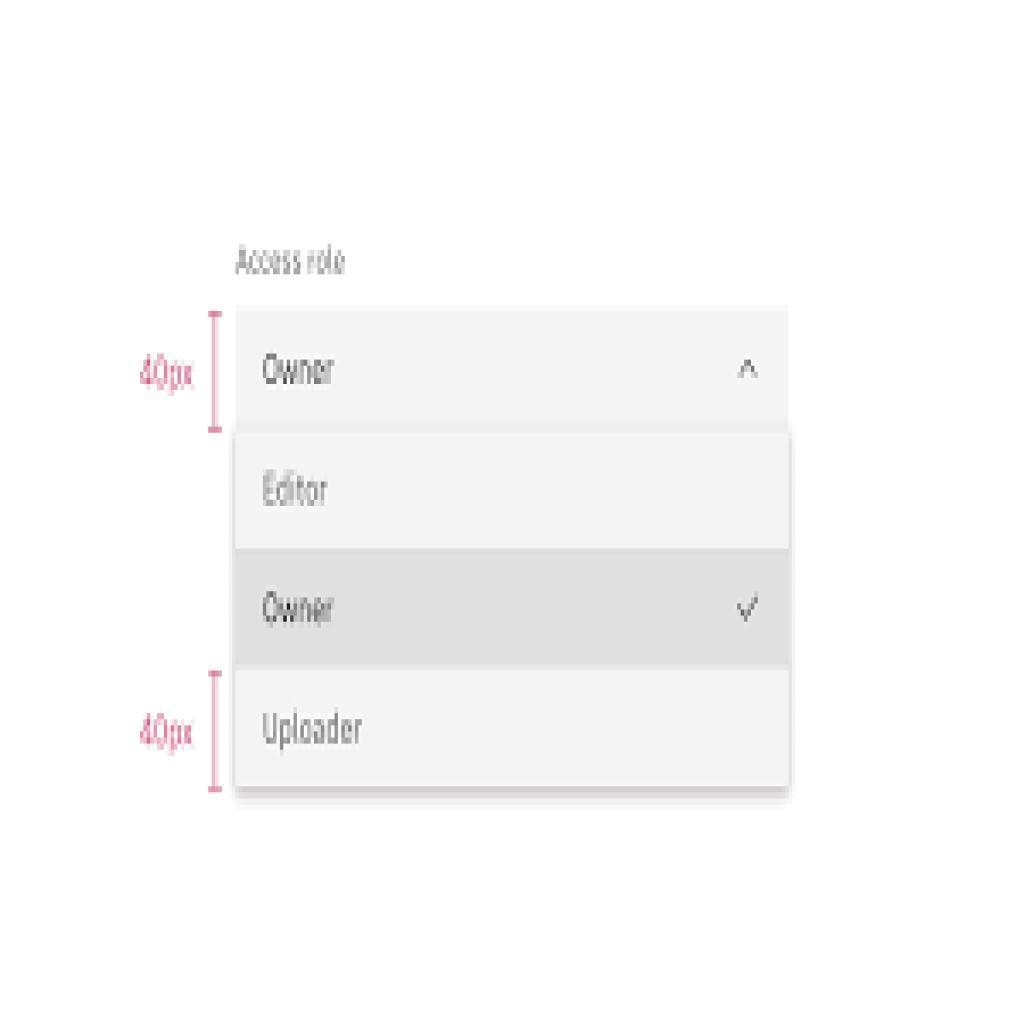dropdown: (240, 334, 788, 422)
icon: (732, 586, 766, 633)
